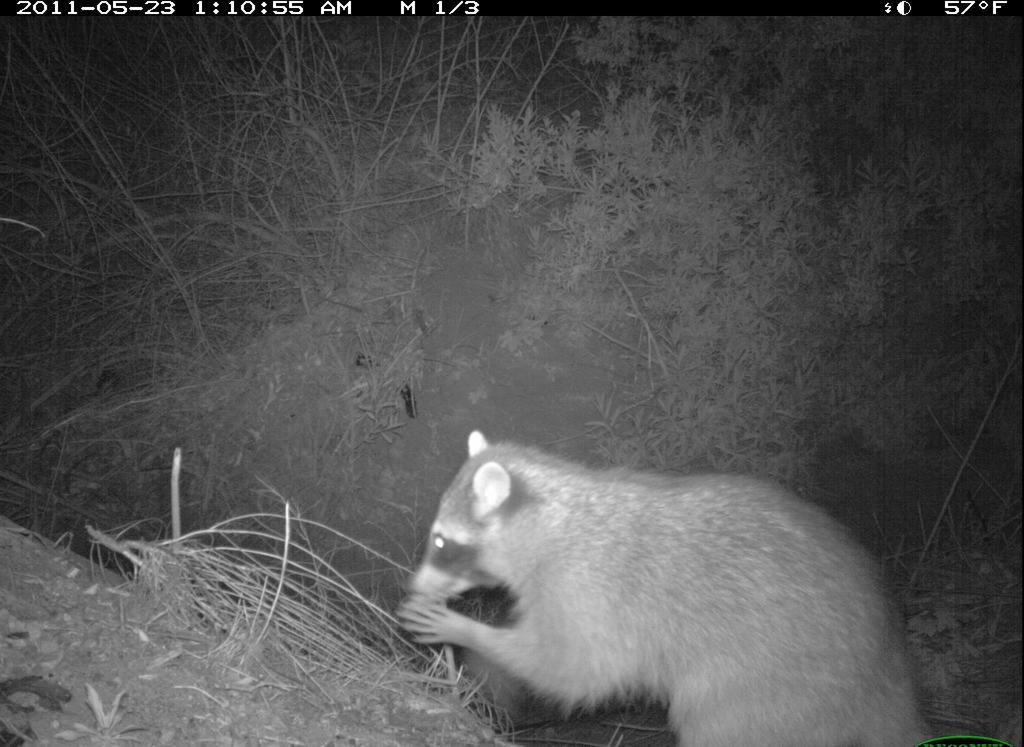raccoon: (391, 417, 941, 745)
